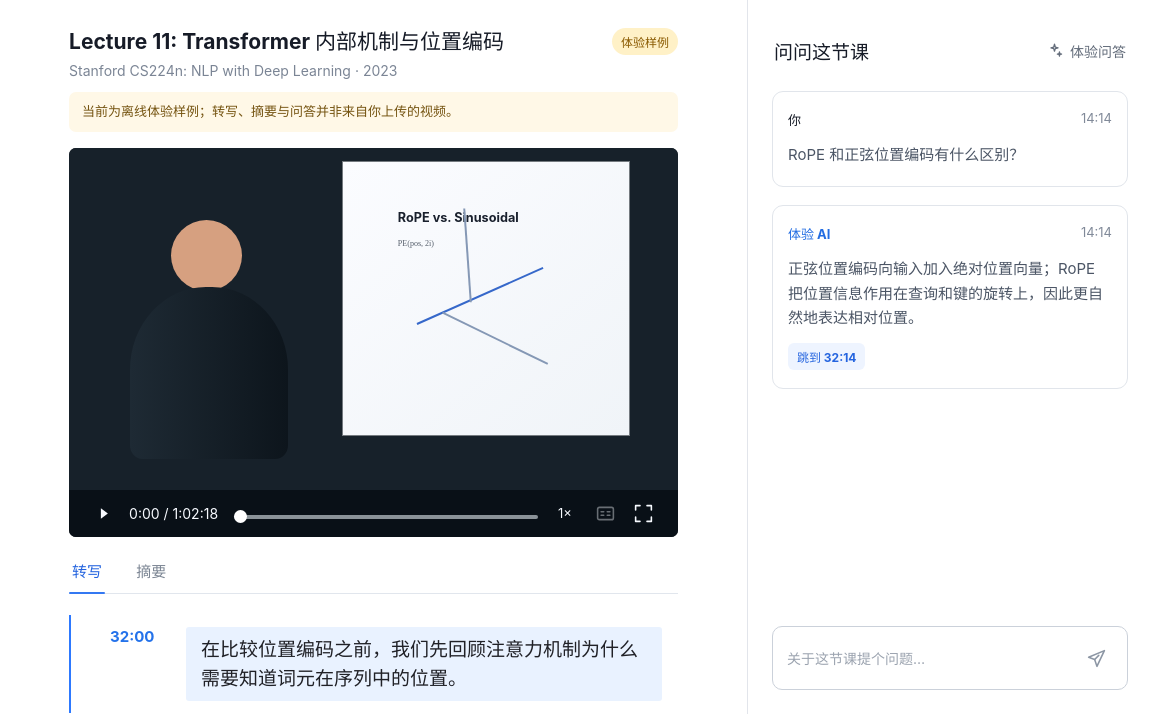
Scenario: ReaderPage › answers matching demo questions with a timestamp citation
Type "RoPE 如何表示相对位置？" into the field named "课程问题".
click(929, 658); type("RoPE 如何表示相对位置？")  # box [785,648,1073,668]
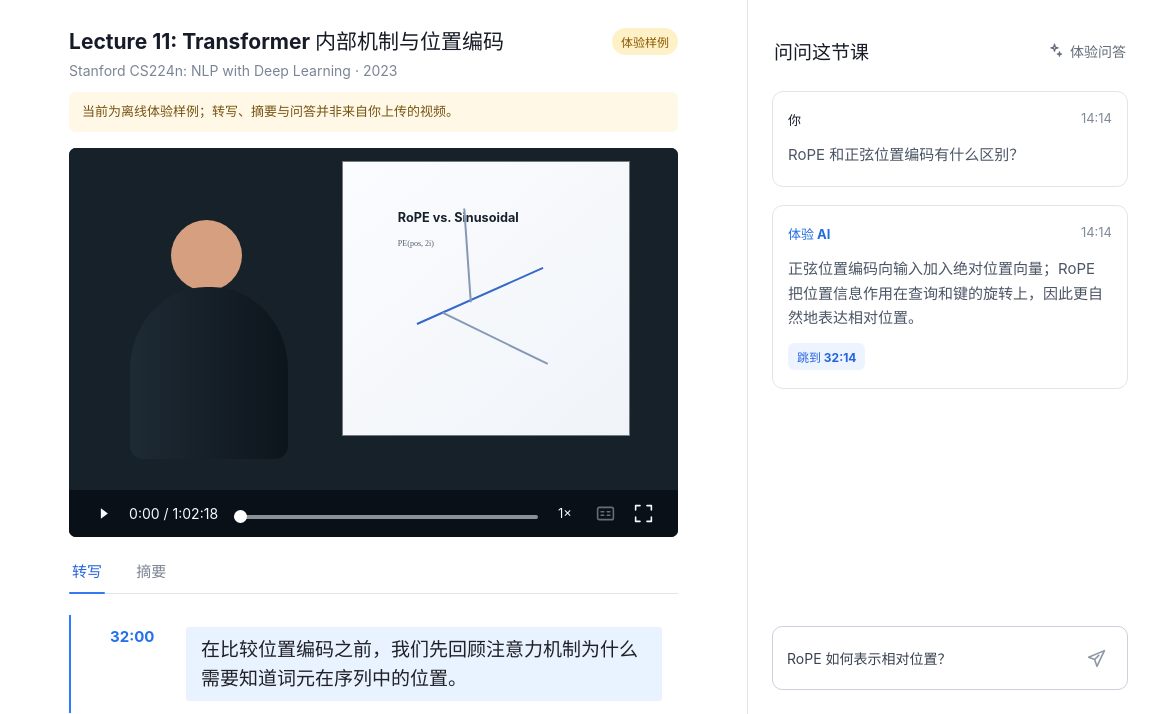
Click the button named "发送问题".
click(1096, 658)  # box [1081,643,1111,673]
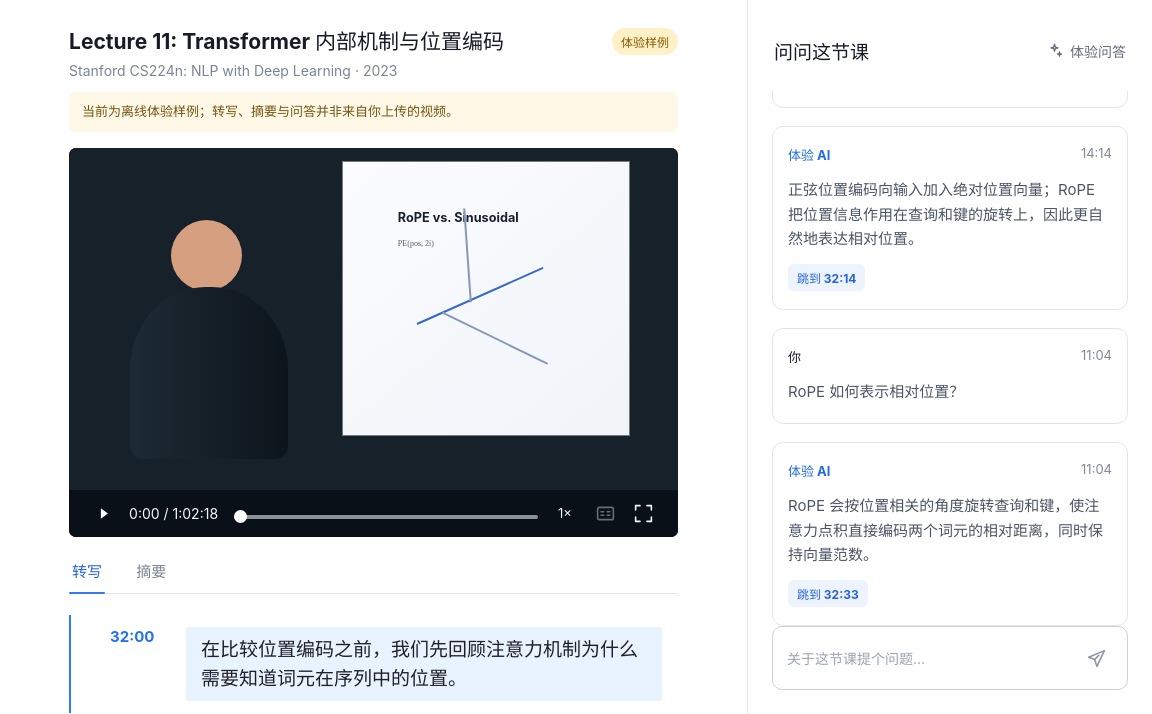
Expected: the text "RoPE 会按位置相关的角度旋转查询和键，使注意力点积直接编码两个词元的相对距离，同时保持向量范数。" is shown, [788,494,1112,568]
Expected: the button "跳到 32:33" is shown, [788,580,868,607]
